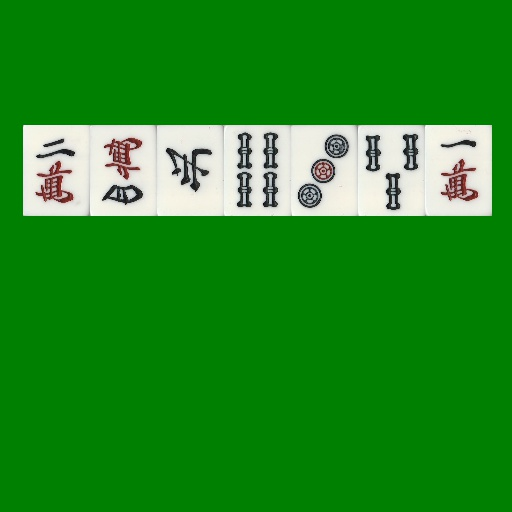1m: (425, 125, 492, 216)
2m: (23, 125, 90, 216)
3p: (291, 125, 358, 216)
3s: (358, 125, 425, 216)
4m: (90, 125, 157, 216)
4s: (224, 125, 291, 216)
north: (157, 125, 224, 216)
